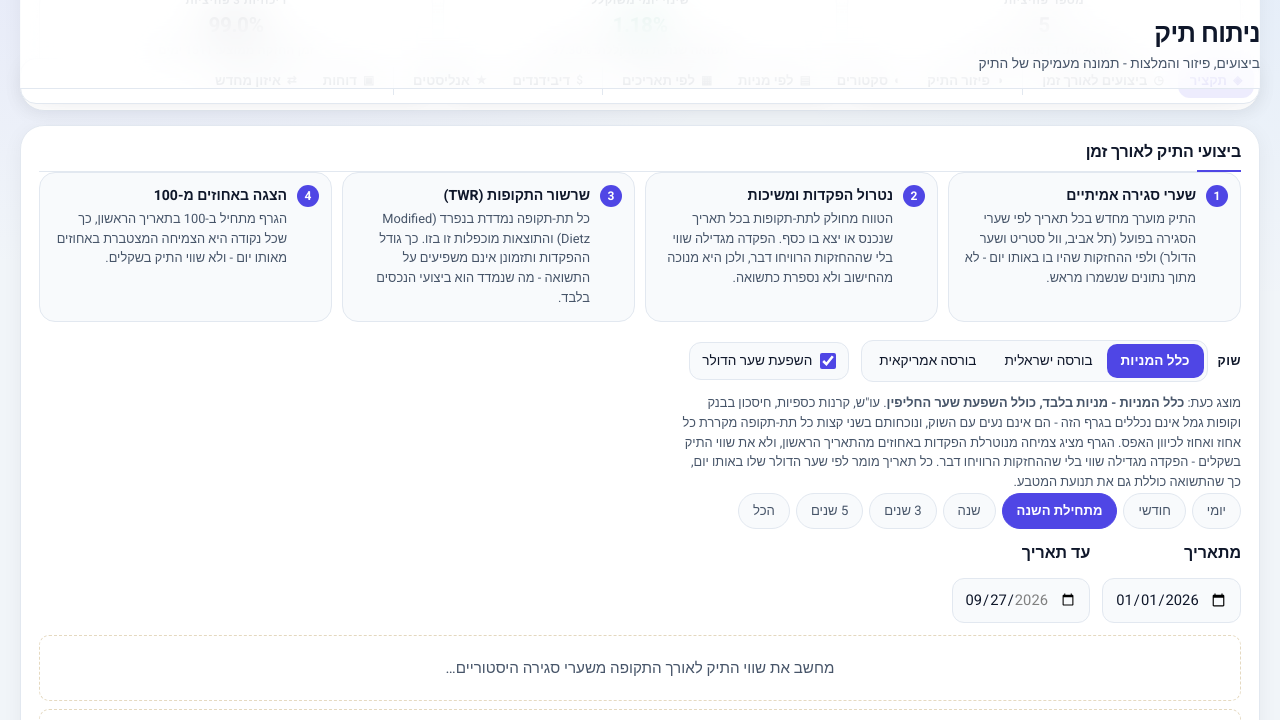
Test: PortfolioAnalysisView › market selection and the FX toggle › names the filter that emptied the chart, rather than claiming no holdings
(page scrolled)
Click the button "בורסה אמריקאית" at (928, 361), box [865,344,990,378]
(page scrolled)
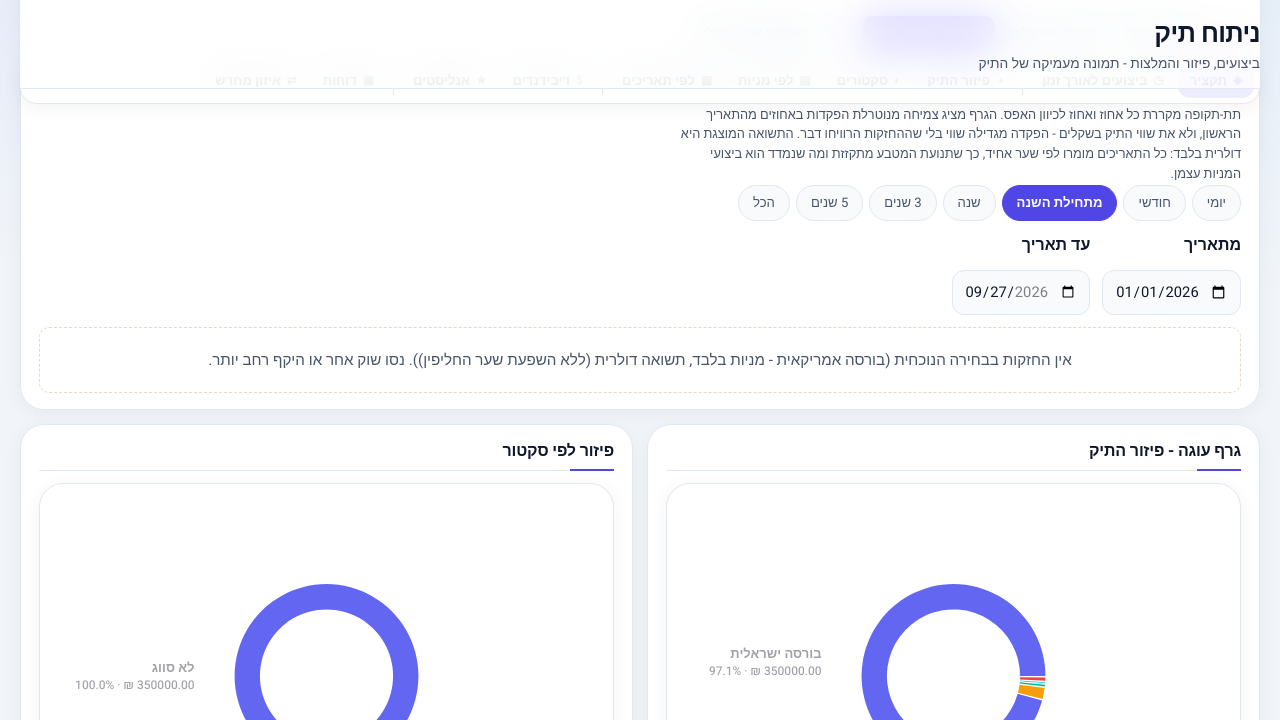
expect the text "אין החזקות בבחירה הנוכחית" is shown: met, box [885,349,1072,371]
